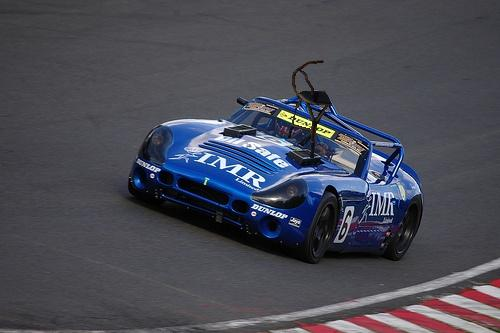tampered: (289, 61, 332, 158)
